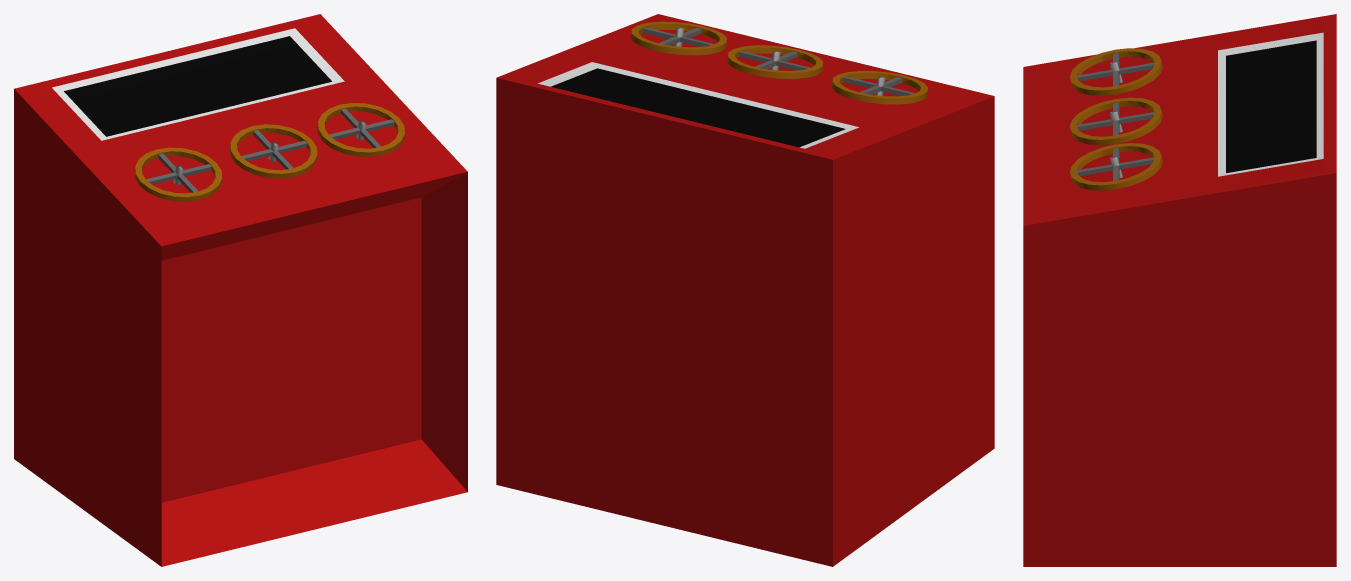
The model's file is Valve_Panel.fbx.
3 renders of one model, left to right at view 1: azimuth 30°, elevation 25°; view 2: azimuth 150°, elevation 25°; view 3: azimuth 270°, elevation 25°, orthographic. The views are drawn at different scales.
Parts seen in each view (by area): view 1: Valve_ControlPanel1, Valve_Weel3; view 2: Valve_ControlPanel1, Valve_Weel3; view 3: Valve_ControlPanel1, Valve_Weel3.
Part boxes in pixels (box(x1,y1,x2,y2)): Valve_ControlPanel1: box(14, 14, 467, 566); Valve_Weel3: box(317, 103, 404, 157); Valve_ControlPanel1: box(496, 14, 994, 566); Valve_Weel3: box(631, 21, 726, 55); Valve_ControlPanel1: box(1023, 14, 1336, 566); Valve_Weel3: box(1070, 143, 1162, 190).
Size of the model in its own units: 1.2 by 1.39 by 1.
